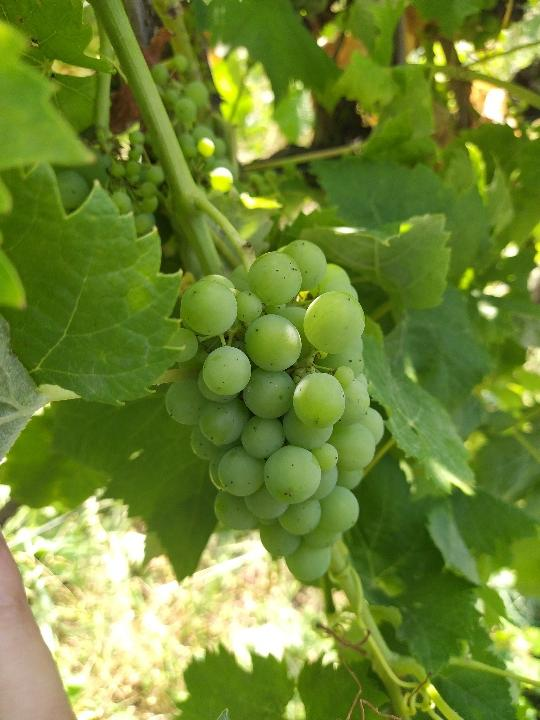grape: (162, 237, 389, 587)
